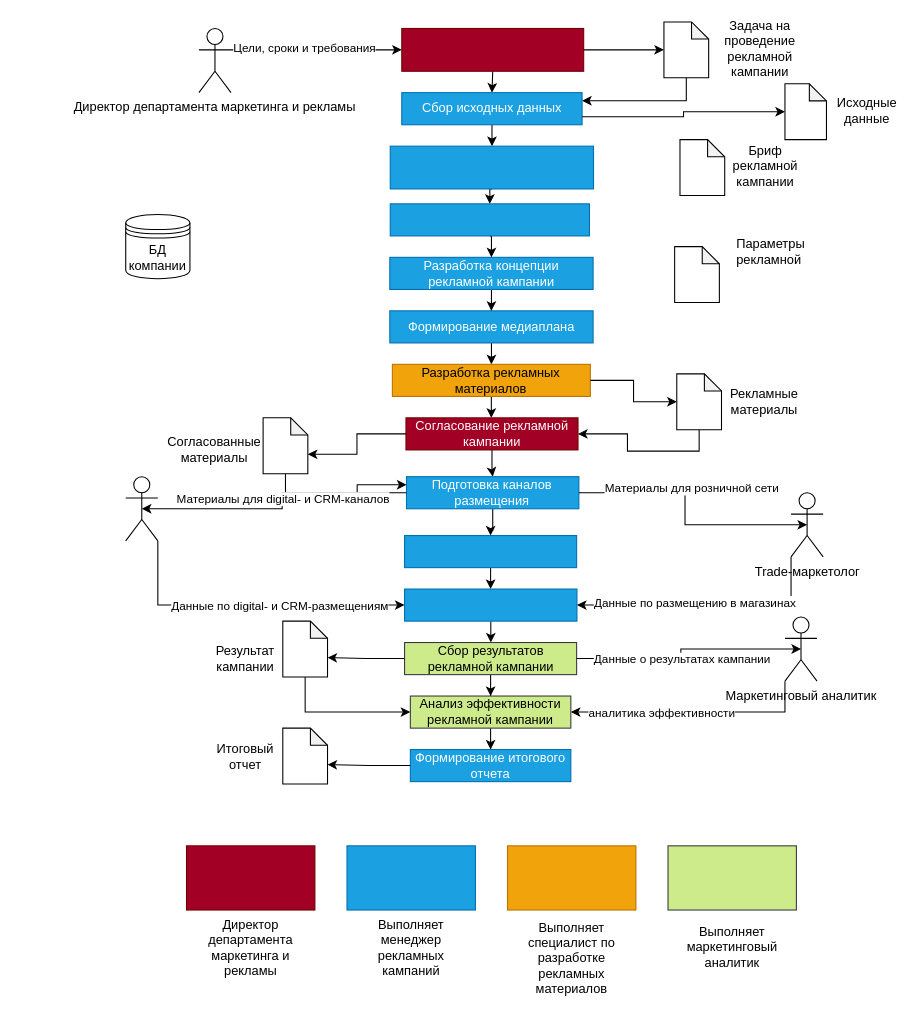
Some shapes in this 918 by 1015 pixel diagram are drawn without their labels. The centre of each missing label's shape, as x and y in pixels:
Мониторинг проведения рекламной кампании: (490,604)
Определение KPI, бюджета, целевой аудитории и сроков: (489,219)
Размещение и запуск рекламной кампании: (490,551)
Специалист digital- и CRM-коммуникаций: (141,508)
Формирование брифа рекламной кампании: (491,167)
Формирование задачи на проведение рекламной кампании: (492,49)
